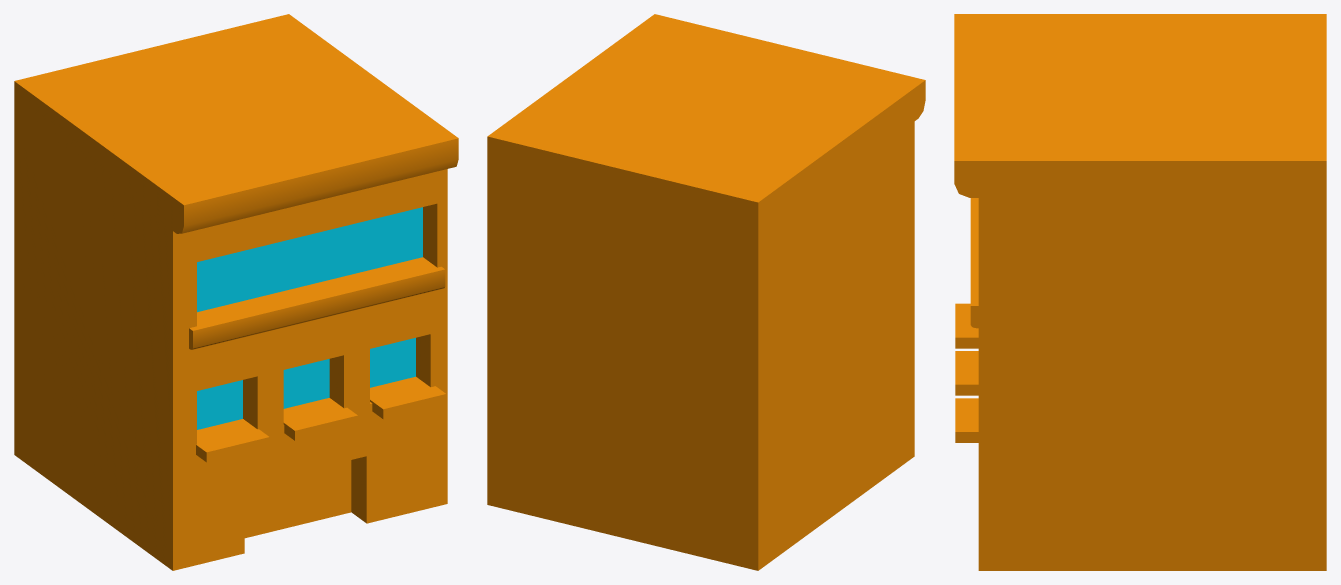
The model's file is VRGJApartment2.fbx.
The picture shows the model from 3 angles, left to right: view 1: azimuth 30°, elevation 25°; view 2: azimuth 150°, elevation 25°; view 3: azimuth 270°, elevation 25°; orthographic projection. The views are drawn at different scales.
Visible parts, largest first — view 1: Apartment2; view 2: Apartment2; view 3: Apartment2.
Boxes of the visible parts, box(x1,y1,x2,y2) form: Apartment2: box(14, 14, 458, 570); Apartment2: box(487, 14, 925, 570); Apartment2: box(954, 14, 1326, 570).
Size of the model in its own units: 1000 by 1300 by 1070.
